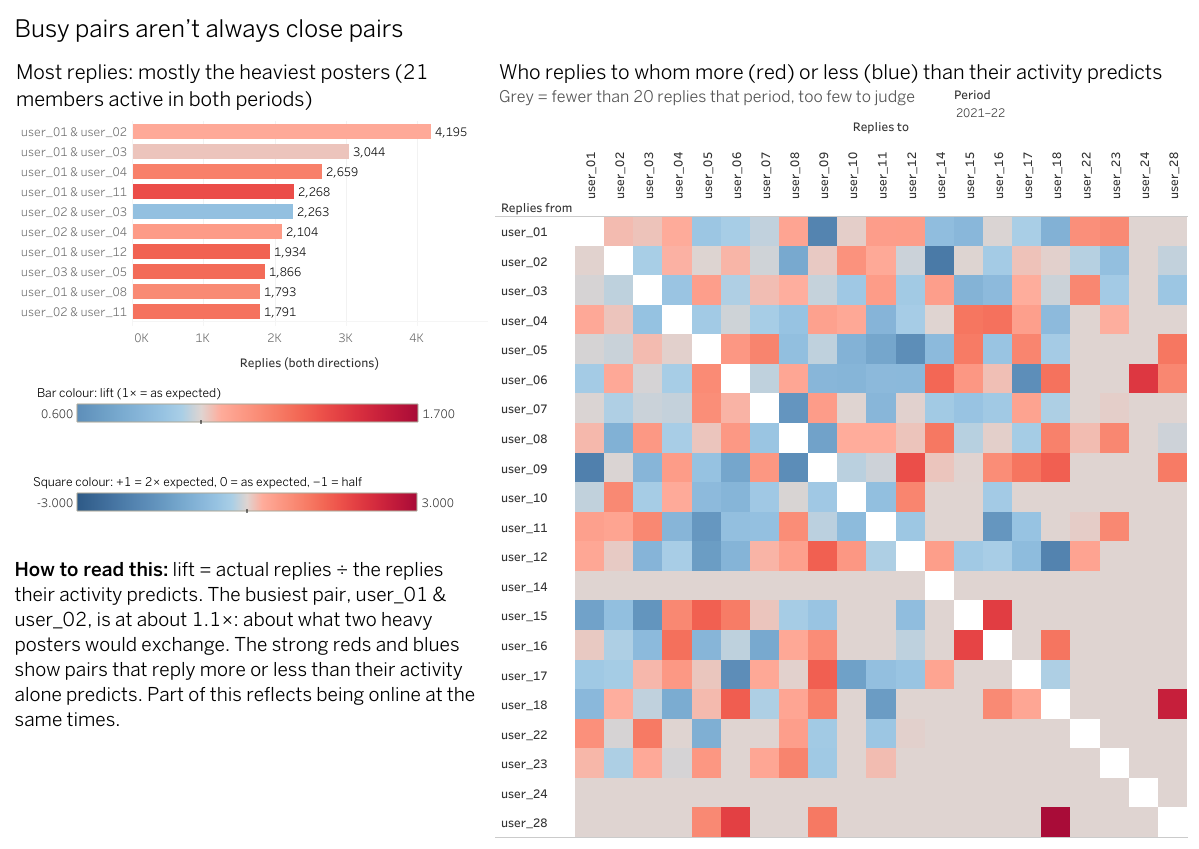

This screenshot's page, from the dashboard's own definition file:
{"tool":"tableau","page":{"name":"Who talks to whom","canvas":[1200,850],"ordinal":1},"visuals":[{"type":"title","box":[8,8,1184,39]},{"type":"worksheet","title":"Busiest pairs","mark":"Automatic","rows":["pair"],"cols":["replies"],"box":[8,47,483.3,397.5]},{"type":"worksheet","title":"Lift","mark":"Square","rows":["source"],"cols":["target"],"box":[491.4,47,700.6,795]},{"type":"parameter","param":"[Parameters].[Parameter 1187253073444864]","box":[954,84,219,52]},{"type":"legend","title":"Busiest pairs","param":"[federated.06tcc5i0ydehfa13fbb9m0v45zhs].[sum:lift:qk]","box":[37,380,423,76]},{"type":"text","box":[8,444.5,483.3,397.5]},{"type":"legend","title":"Lift","param":"[federated.00cfvp208f82gz1345yzv048m4dg].[sum:Calculation_1187253384450051:qk]","box":[33,469,426,76]}]}

Visuals, with their boxes in screenshot pixels (x1, y1, x2, y2), scaled from the page's 1200x850 canvas onto the 1199x849 screenshot:
title: detection(8, 8, 1191, 47)
"Busiest pairs" worksheet: detection(8, 47, 491, 444)
"Lift" worksheet (Square marks): detection(491, 47, 1191, 841)
parameter: detection(953, 84, 1172, 136)
"Busiest pairs" legend: detection(37, 380, 460, 455)
text: detection(8, 444, 491, 841)
"Lift" legend: detection(33, 468, 459, 544)
